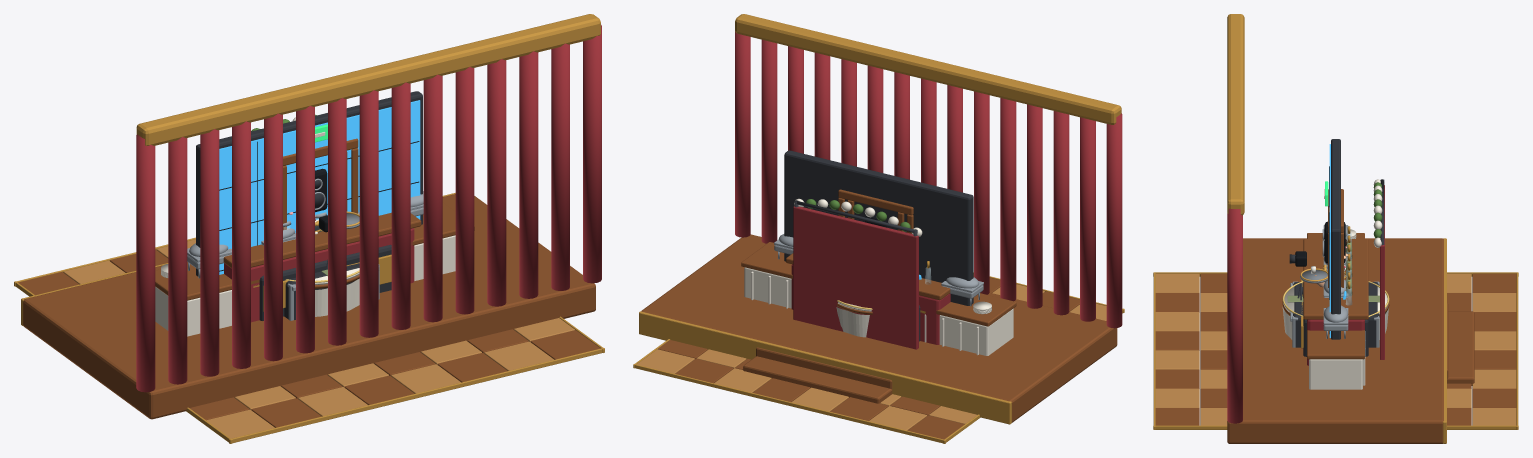
File: hapag-layout-library.glb
3 views of the same model, side by side, from view 1: azimuth 30°, elevation 25°; view 2: azimuth 150°, elevation 25°; view 3: azimuth 270°, elevation 25° (orthographic). The views are drawn at different scales.
Parts seen in each view (by area): view 1: stage_HP_Wine, stage_HP_Wood, stage_HP_Gold, dance_HP_Wood, dance_HP_WoodLight, screen_HP_Screen, dance_HP_Gold, buffet_HP_Cloth, screen_HP_Dark, buffet_HP_Wood, bar_HP_Wine, bar_HP_Wood (+5 smaller); view 2: stage_HP_Wine, stage_HP_Wood, stage_HP_Gold, photo_HP_Wine, screen_HP_Dark, dance_HP_WoodLight, dance_HP_Wood, buffet_HP_Cloth, buffet_HP_Wood, dance_HP_Gold, bar_HP_Wine, buffet_HP_Steel (+6 smaller); view 3: stage_HP_Wood, dance_HP_Wood, dance_HP_WoodLight, stage_HP_Gold, stage_HP_Wine, bar_HP_Wood, dance_HP_Gold, screen_HP_Dark, buffet_HP_Wood, buffet_HP_Cloth, other_HP_Dark, buffet_HP_Steel (+4 smaller).
Boxes of the visible parts, bbox=[...] form: stage_HP_Wine: bbox=[136, 25, 601, 392]; stage_HP_Wood: bbox=[23, 194, 595, 419]; stage_HP_Gold: bbox=[21, 14, 600, 325]; dance_HP_Wood: bbox=[18, 249, 600, 427]; dance_HP_WoodLight: bbox=[63, 239, 574, 438]; screen_HP_Screen: bbox=[219, 100, 420, 274]; dance_HP_Gold: bbox=[14, 237, 604, 443]; buffet_HP_Cloth: bbox=[155, 235, 455, 336]; screen_HP_Dark: bbox=[196, 91, 422, 276]; buffet_HP_Wood: bbox=[155, 202, 474, 300]; bar_HP_Wine: bbox=[224, 228, 414, 322]; bar_HP_Wood: bbox=[223, 212, 421, 268]; stage_HP_Wine: bbox=[735, 31, 1122, 328]; stage_HP_Wood: bbox=[641, 234, 1117, 422]; stage_HP_Gold: bbox=[639, 14, 1121, 424]; photo_HP_Wine: bbox=[793, 206, 918, 349]; screen_HP_Dark: bbox=[784, 150, 973, 305]; dance_HP_WoodLight: bbox=[637, 284, 1106, 430]; dance_HP_Wood: bbox=[658, 274, 1079, 439]; buffet_HP_Cloth: bbox=[744, 267, 1013, 355]; buffet_HP_Wood: bbox=[741, 242, 1016, 326]; dance_HP_Gold: bbox=[633, 272, 1124, 443]; bar_HP_Wine: bbox=[791, 264, 950, 344]; buffet_HP_Steel: bbox=[774, 234, 983, 306]; stage_HP_Wood: bbox=[1227, 238, 1474, 443]; dance_HP_Wood: bbox=[1155, 273, 1516, 425]; dance_HP_WoodLight: bbox=[1155, 273, 1516, 425]; stage_HP_Gold: bbox=[1227, 14, 1446, 443]; stage_HP_Wine: bbox=[1227, 208, 1242, 423]; bar_HP_Wood: bbox=[1303, 239, 1368, 319]; dance_HP_Gold: bbox=[1153, 272, 1518, 429]; screen_HP_Dark: bbox=[1331, 139, 1340, 339]; buffet_HP_Wood: bbox=[1307, 233, 1364, 359]; buffet_HP_Cloth: bbox=[1309, 359, 1362, 389]; other_HP_Dark: bbox=[1293, 282, 1379, 347]; buffet_HP_Steel: bbox=[1323, 225, 1348, 338].
Bounding box in the file's own units: 6.22 × 3.74 × 5.04.
